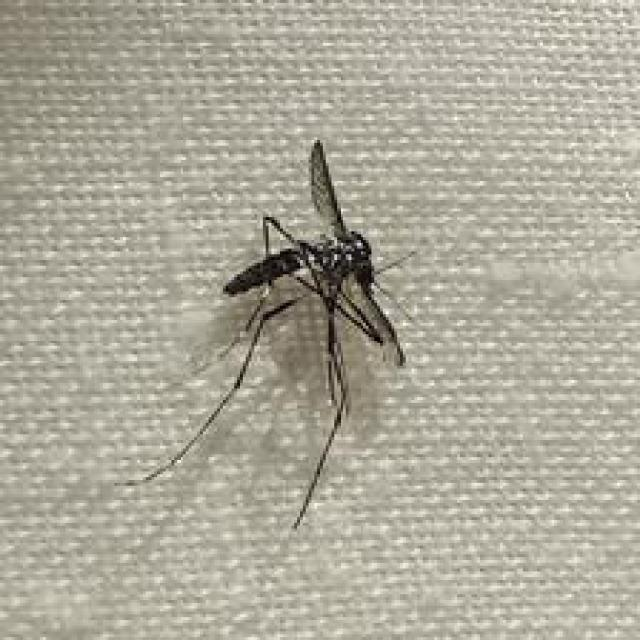Aedes albopictus: (114, 137, 417, 532)
